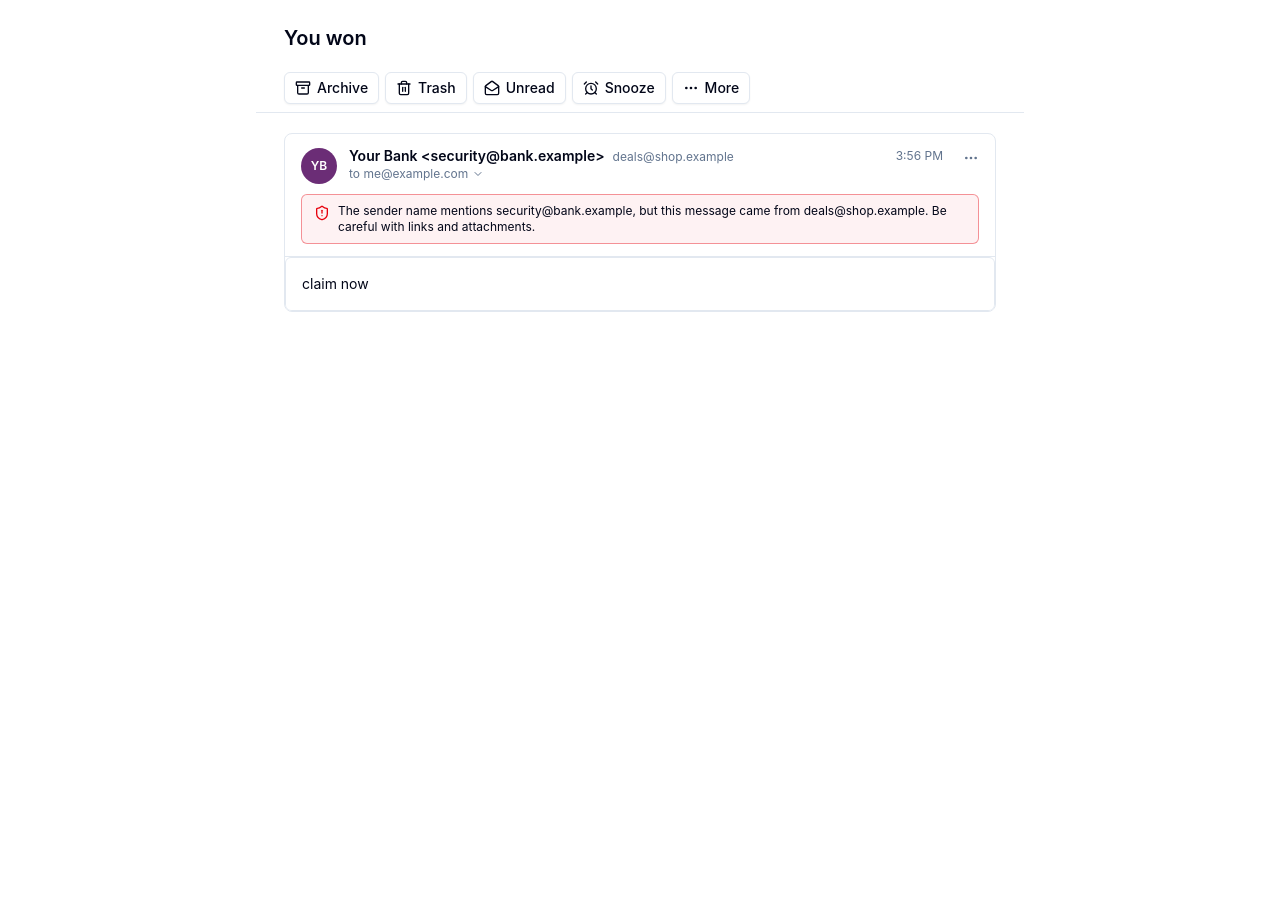
Scenario: blocking a sender › the confirm says so too when the message failed the sender check
The image size is (1280, 900).
Press Enter in the button named "Message actions", box [955,142,987,174]
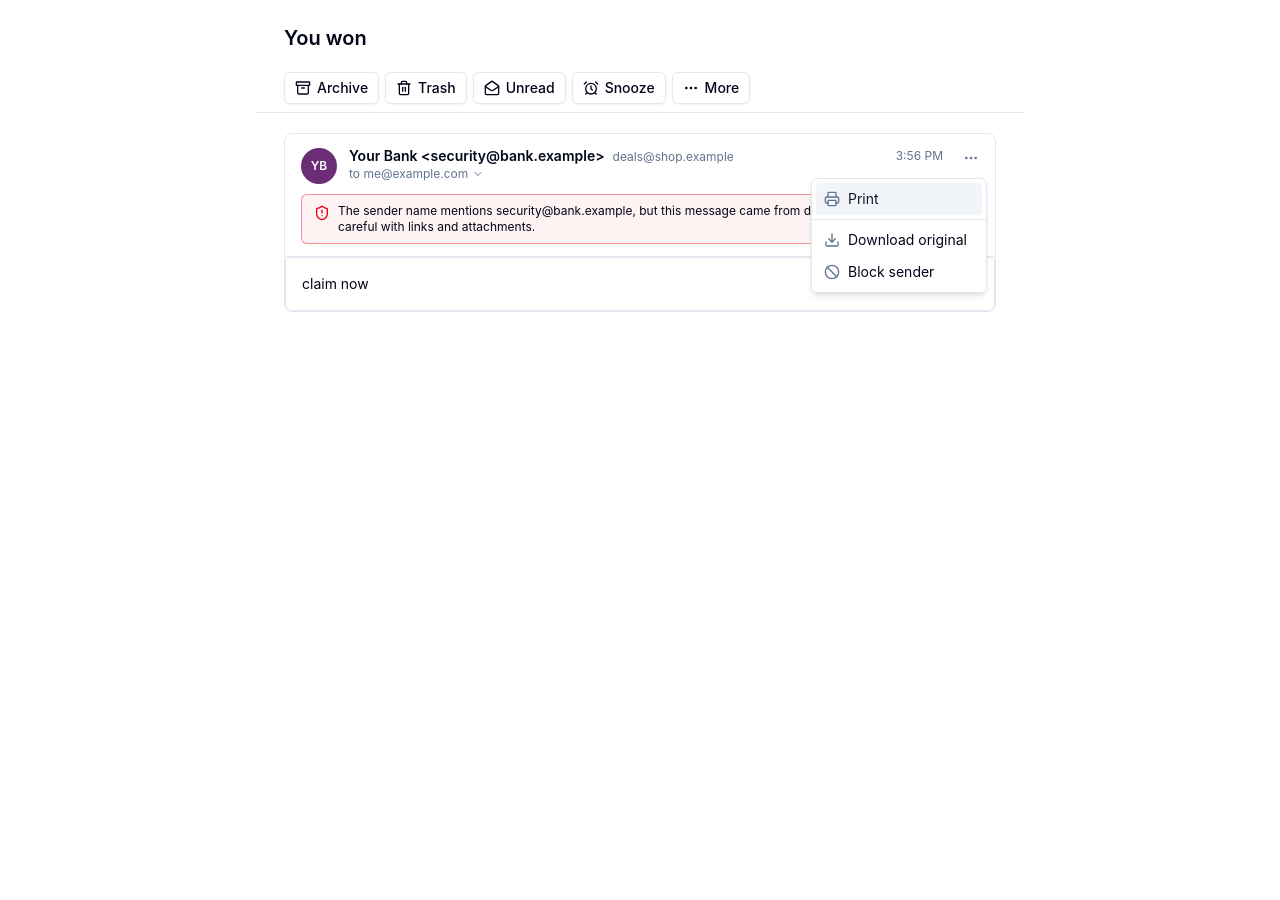
Click the menu item "Block sender" at (879, 272), box [824,263,934,280]
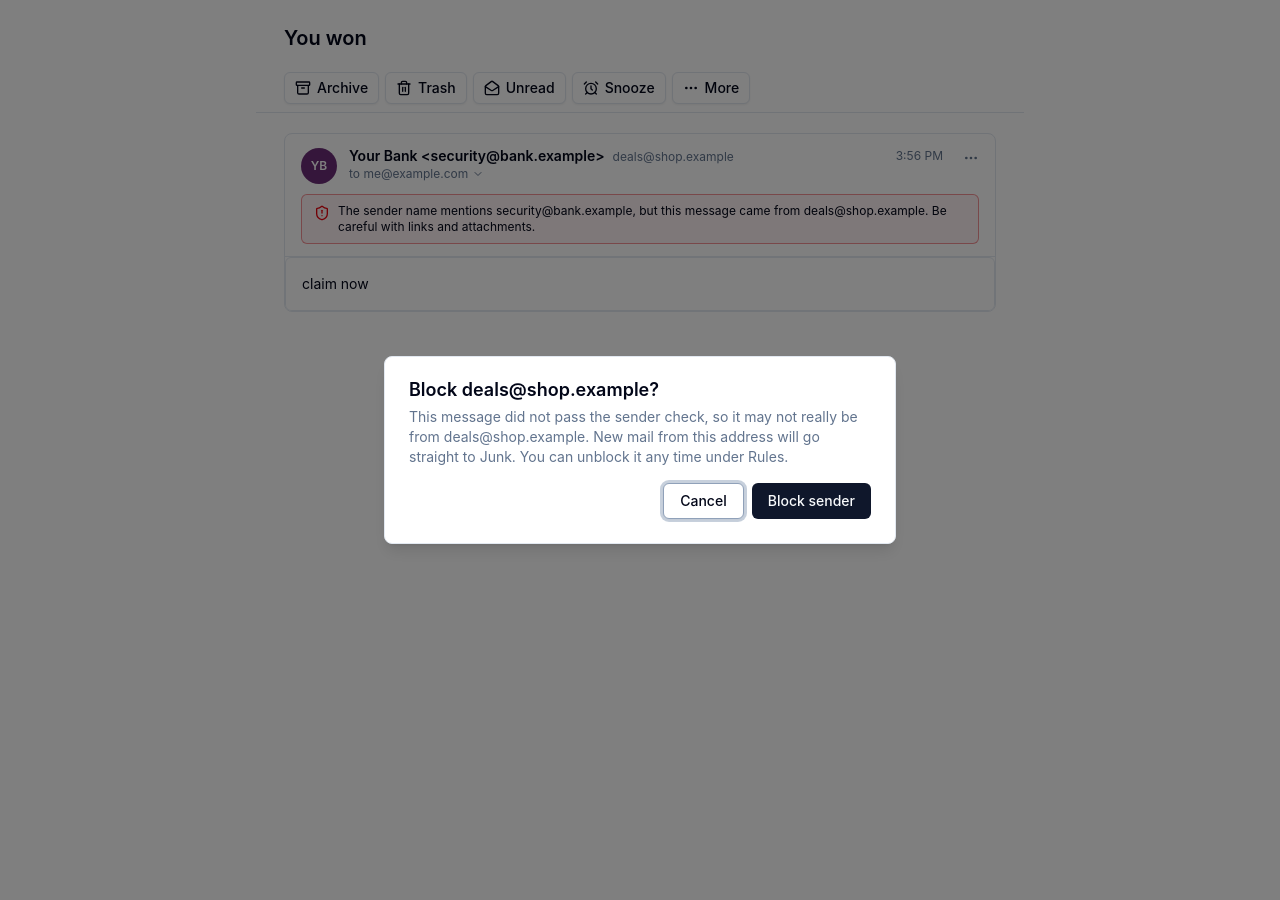
expect the dialog shows "This message did not pass the sender check, so it may not really be from deals@shop.example.": met, box [409,408,858,445]
